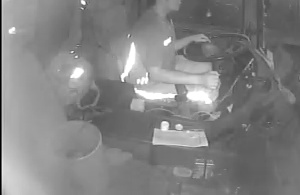cup: (160, 119, 170, 131)
